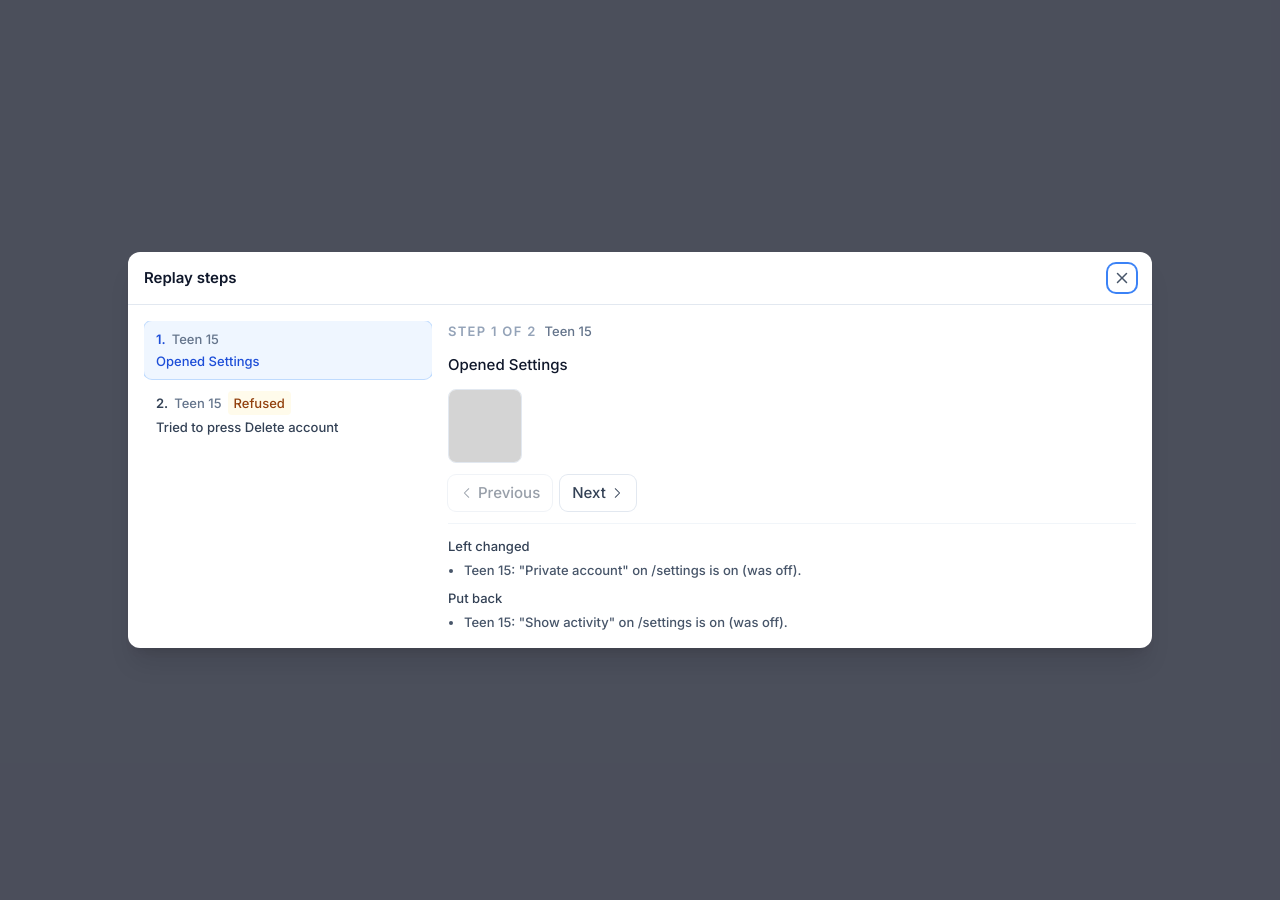
Scenario: ReplaySteps › shows refused steps with their reason and anything not put back
expect the list named "Steps" is shown: met, box [144,321,432,445]
expect the text "Refused" is shown: met, box [228,391,291,415]
Click the button "Next".
click(598, 493)  # box [560,475,636,511]
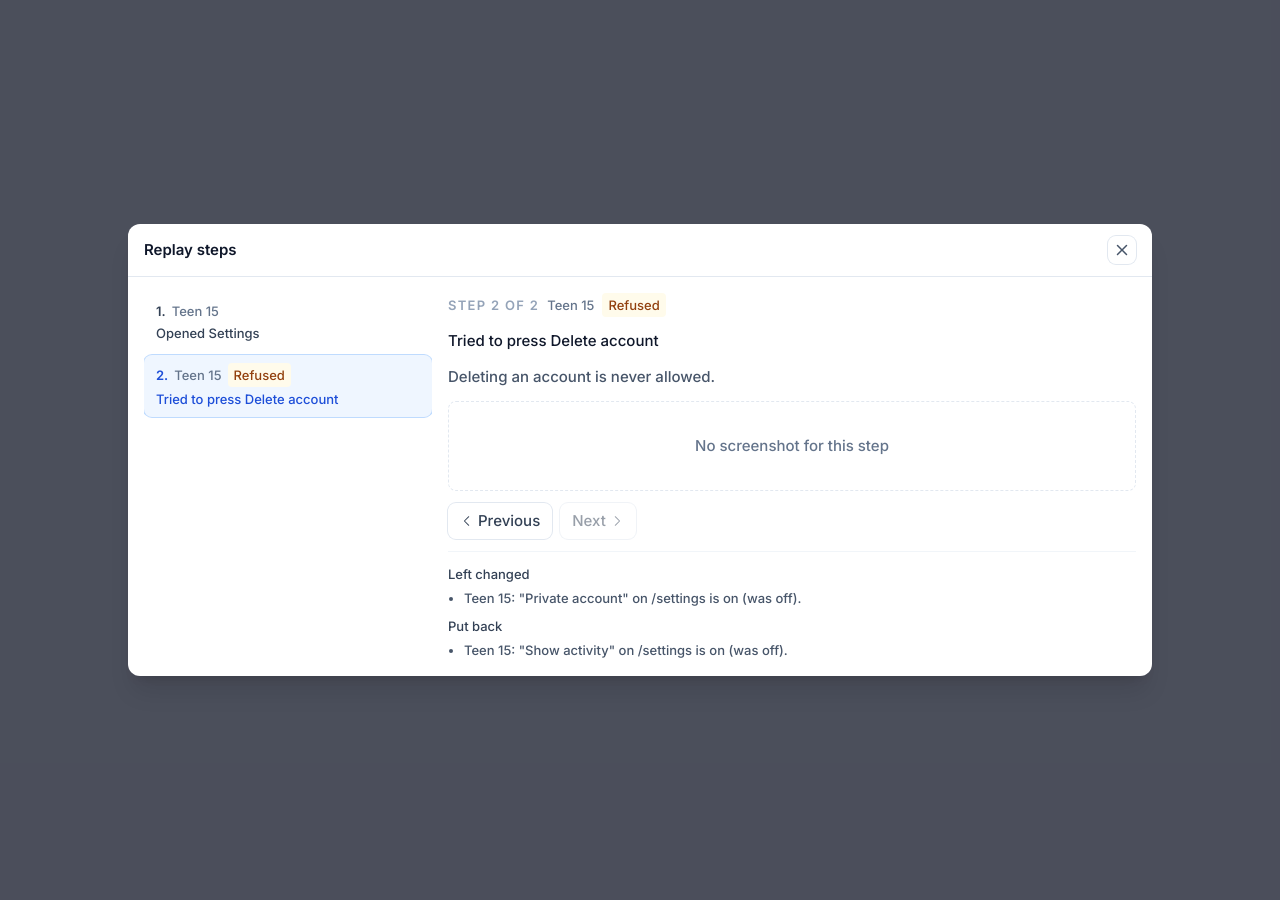
expect the heading "Left changed" is shown: met, box [448,566,530,582]
expect the text "Deleting an account is never allowed." is shown: met, box [448,367,715,386]
expect the text "No screenshot for this step" is shown: met, box [448,401,1136,491]
